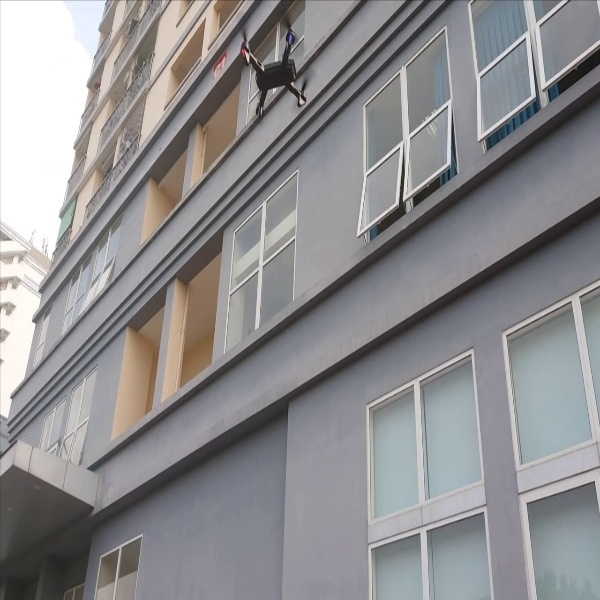drone: (228, 13, 319, 119)
